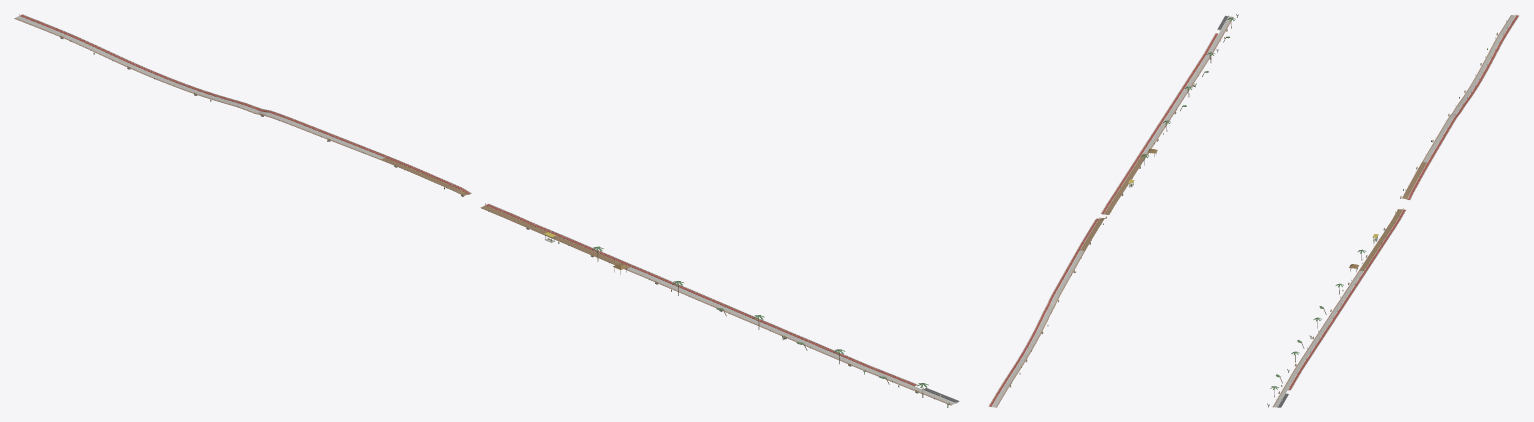
The model's file is nw_mk_south.glb.
The picture shows the model from 3 angles, left to right: view 1: azimuth 30°, elevation 25°; view 2: azimuth 150°, elevation 25°; view 3: azimuth 330°, elevation 25°; orthographic projection. The views are drawn at different scales.
Visible parts, largest first — view 1: nw_mk_south_lod0; view 2: nw_mk_south_lod0; view 3: nw_mk_south_lod0.
Part boxes in pixels (box(x1,y1,x2,y2)): nw_mk_south_lod0: box(14, 14, 959, 407); nw_mk_south_lod0: box(988, 14, 1238, 407); nw_mk_south_lod0: box(1267, 14, 1519, 407).
Size of what is drawn, in the model's own units: 132 by 7.03 by 458.
